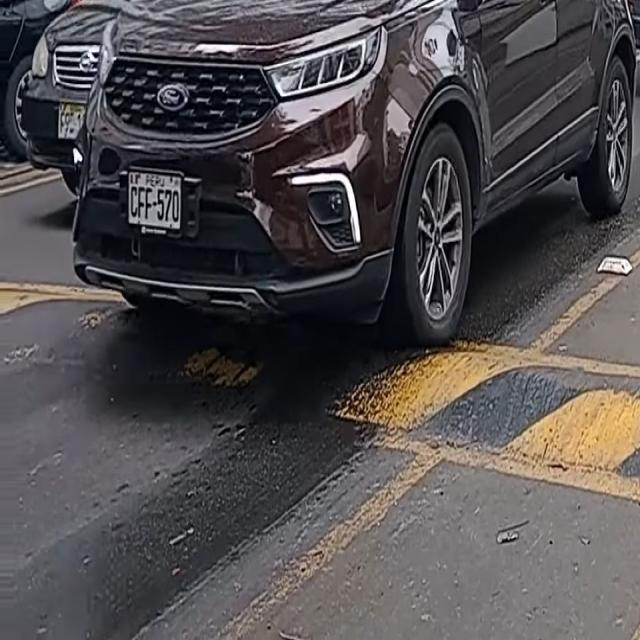car: (74, 0, 640, 345), (32, 0, 282, 174), (623, 0, 639, 85)
